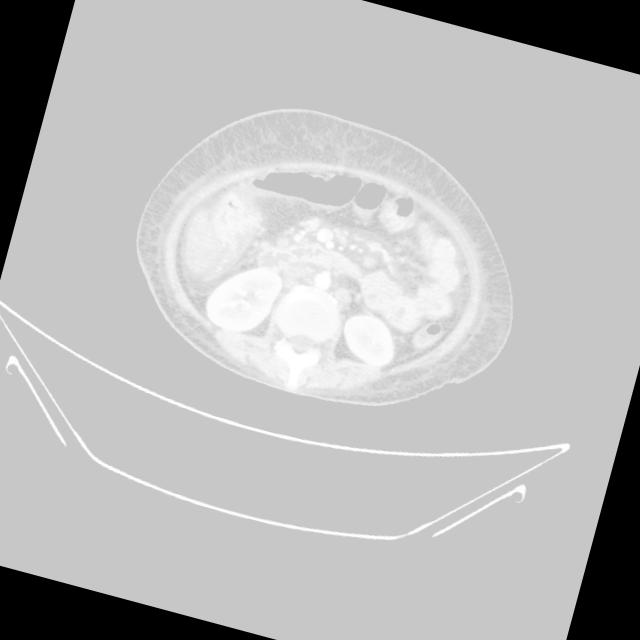NORMAL: (77, 64, 598, 471)
